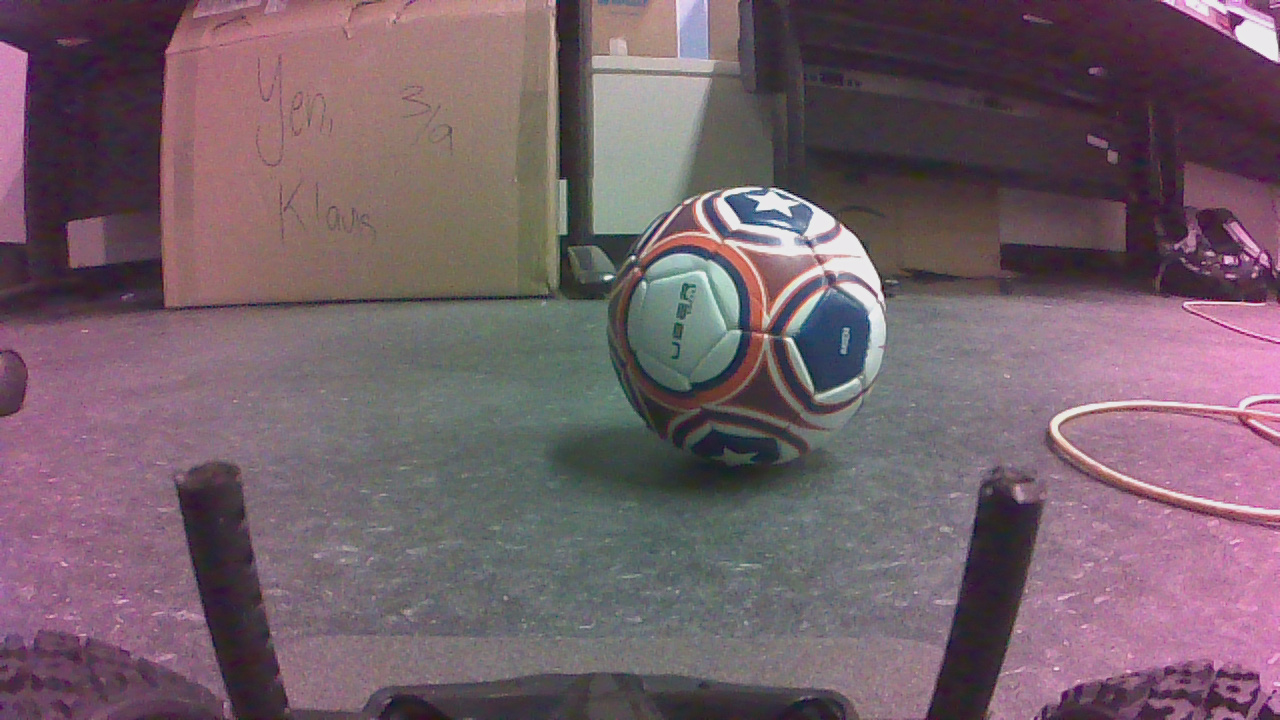ball: (609, 191, 895, 474)
